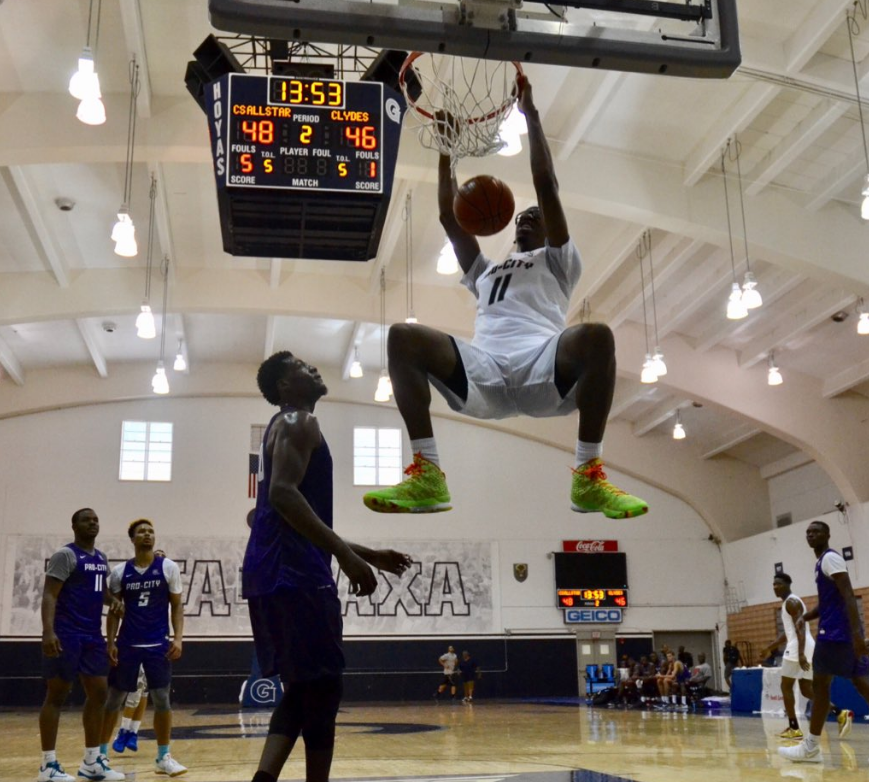ball: (453, 174, 516, 236)
basket: (397, 43, 530, 156)
player: (380, 127, 620, 522), (241, 346, 390, 782), (97, 520, 199, 774), (40, 510, 112, 782), (806, 519, 869, 770), (774, 573, 825, 722)
